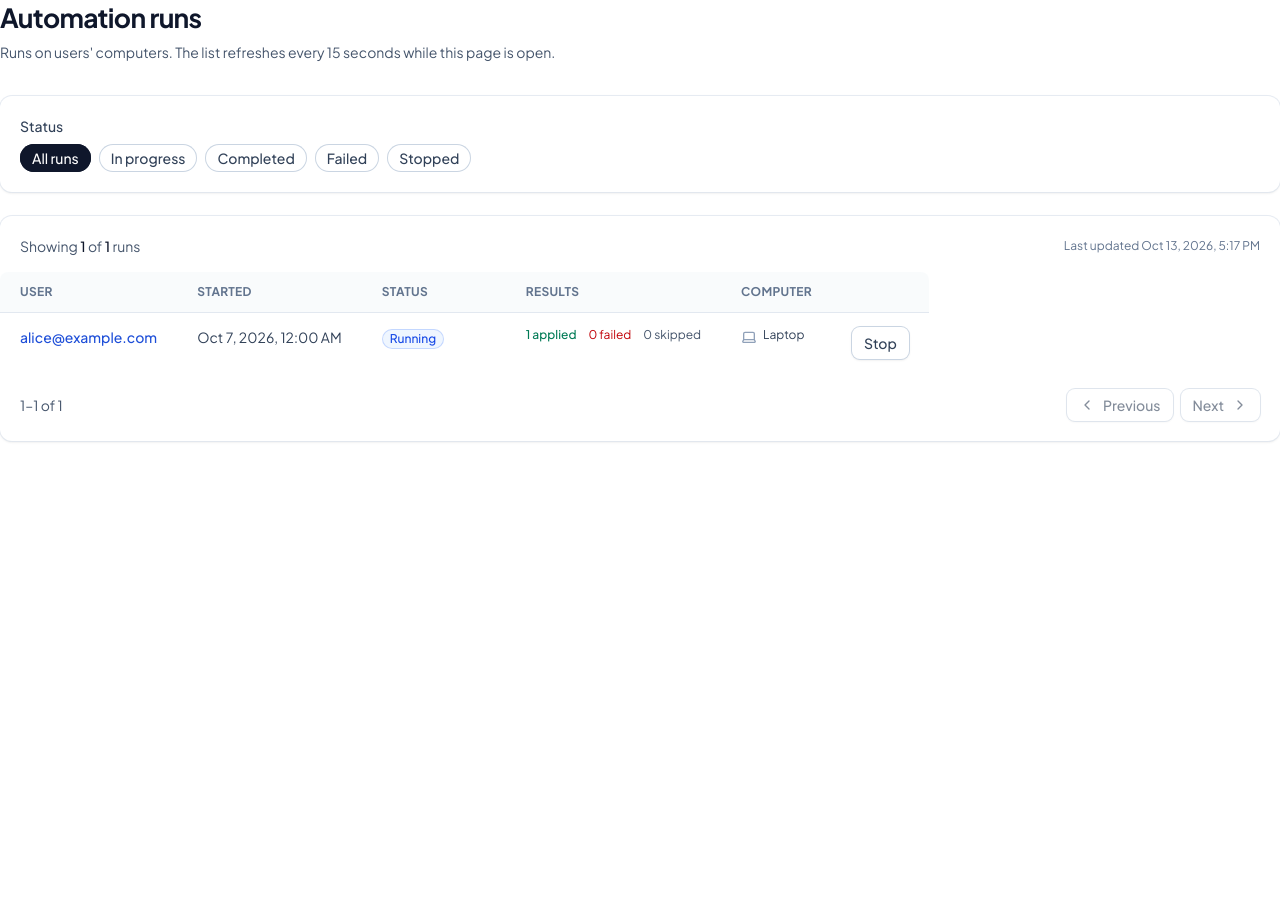
admin area › stops a user's run after confirmation
The width and height of the screenshot is (1280, 900).
Click the button "Stop". click: (880, 343)
box: left=852, top=327, right=909, bottom=359
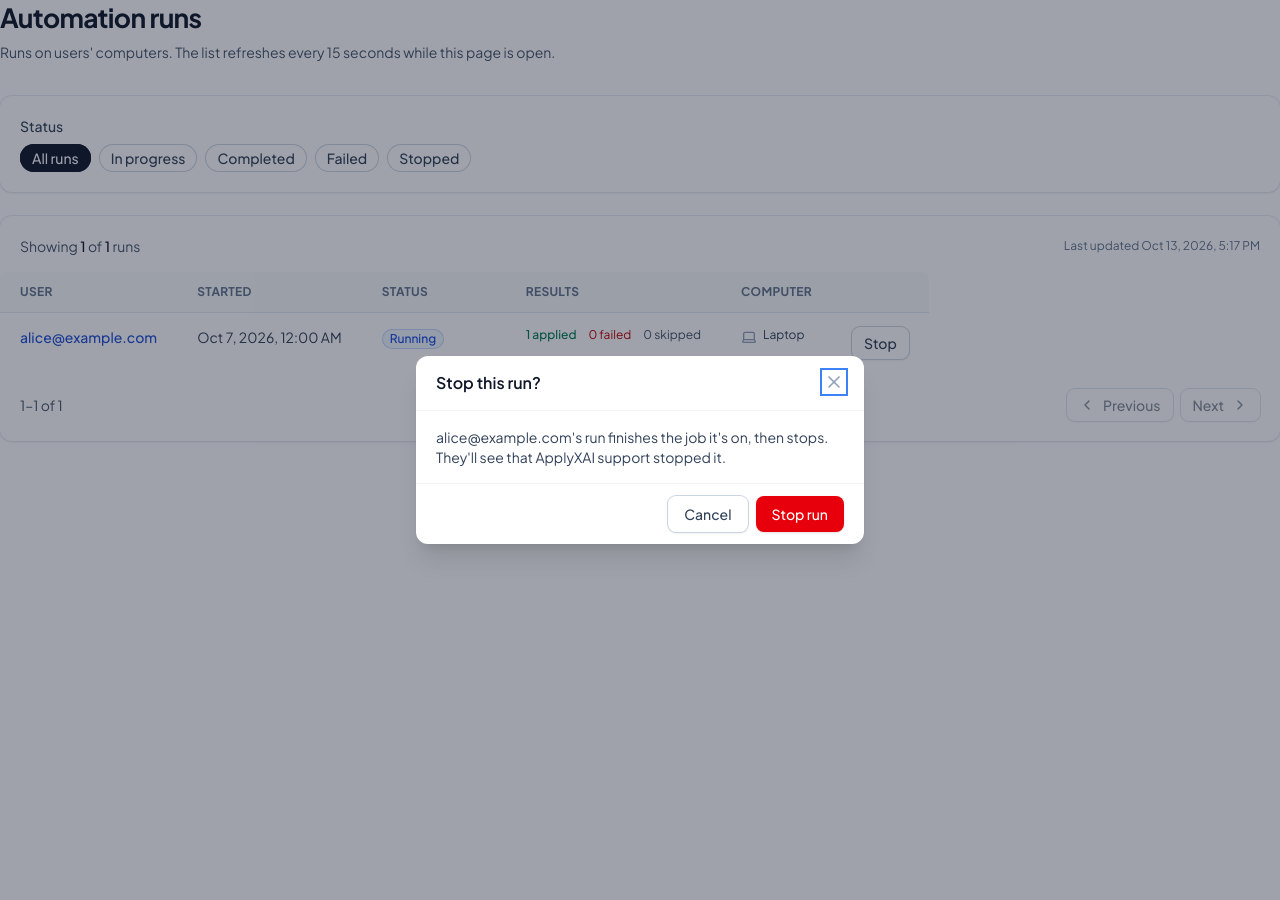
Click the button "Stop run". click: (800, 514)
box: left=756, top=496, right=844, bottom=532
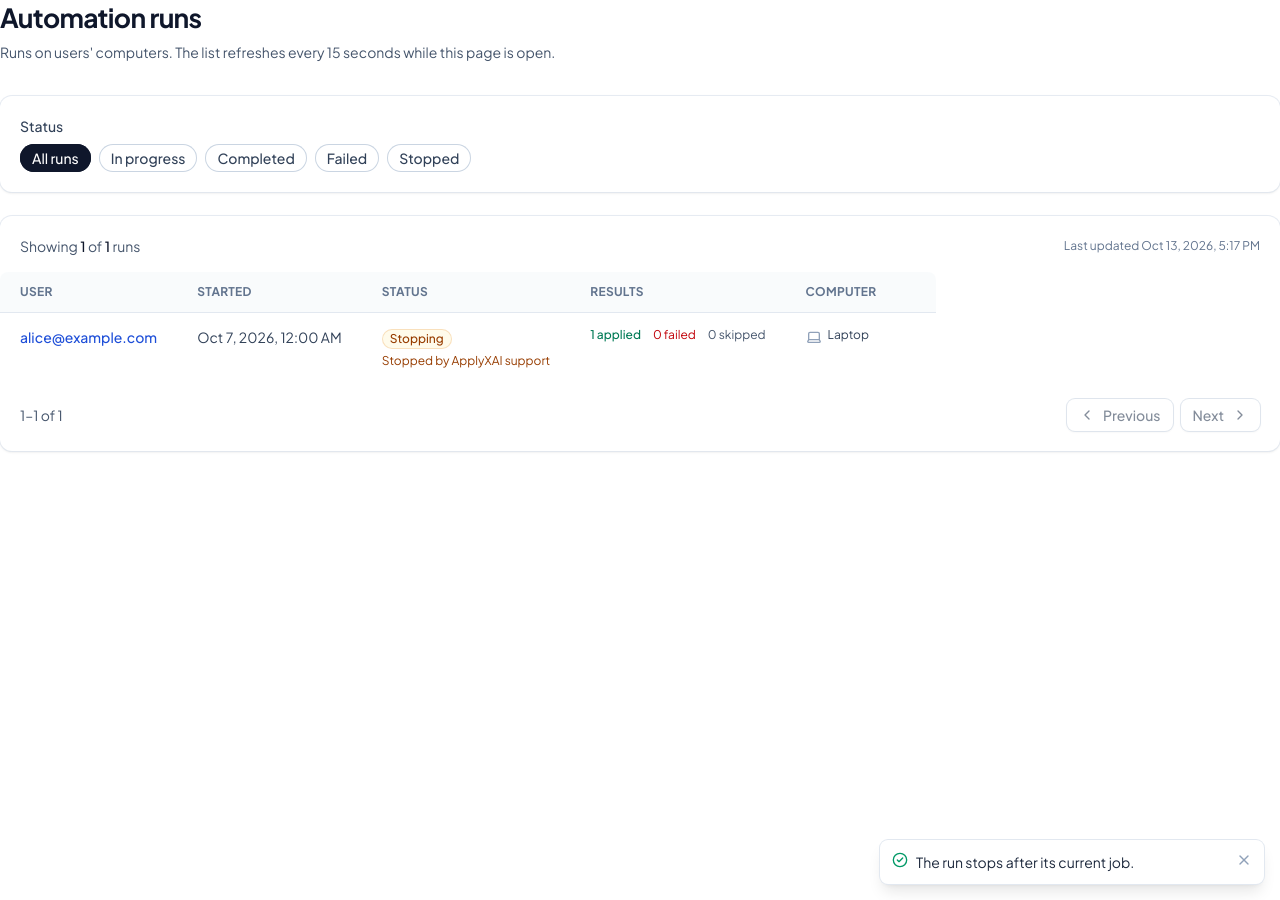
Expected: the text "Stopped by ApplyXAI support" is shown, left=382, top=353, right=550, bottom=369
